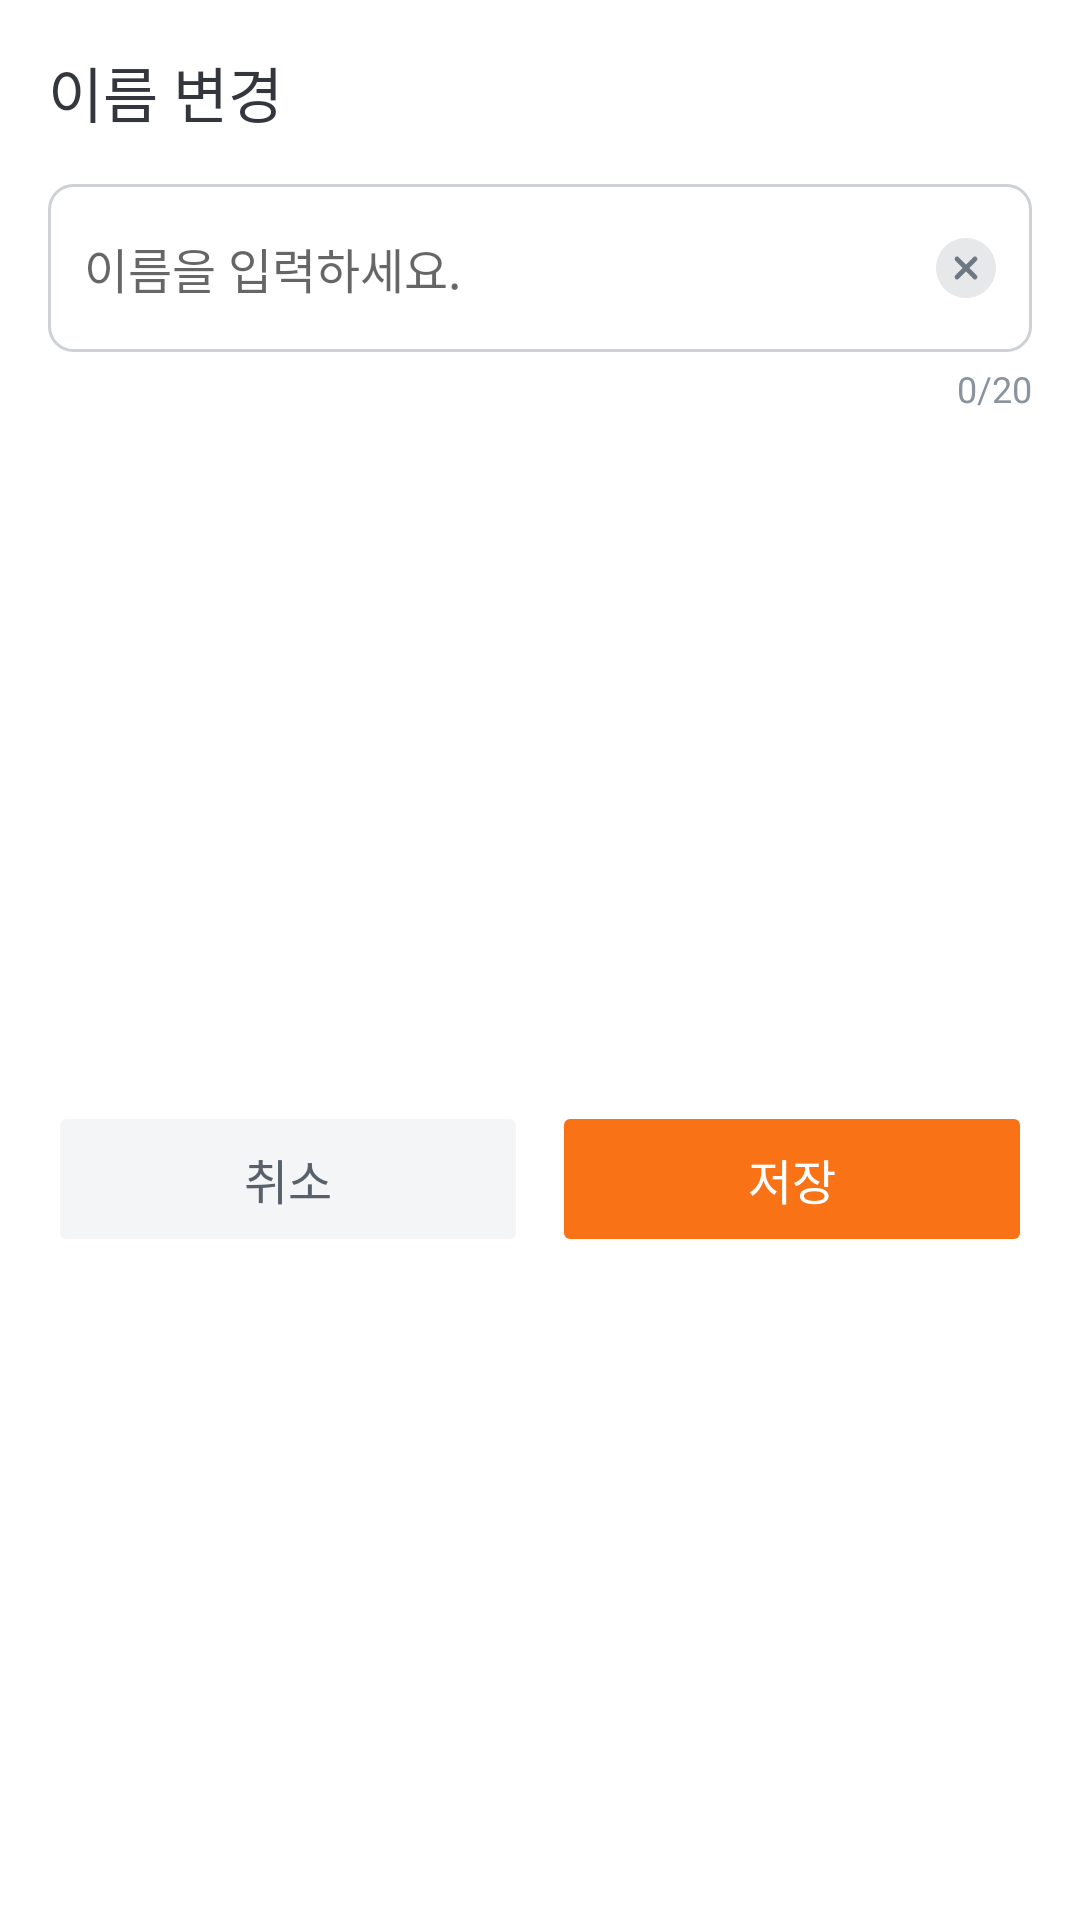

Named icons in this screenshot (1080x1920) and their centers, [x,y]:
close circle: [965,268]
